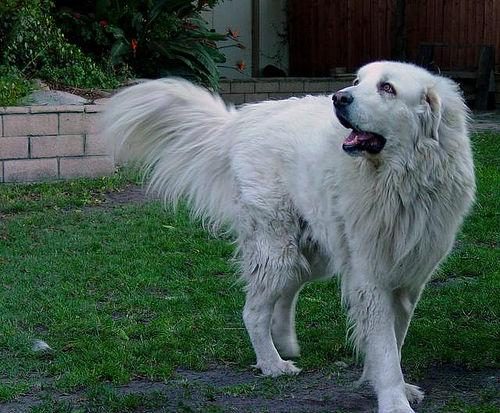dog-great_pyrenees: (330, 59, 442, 155)
